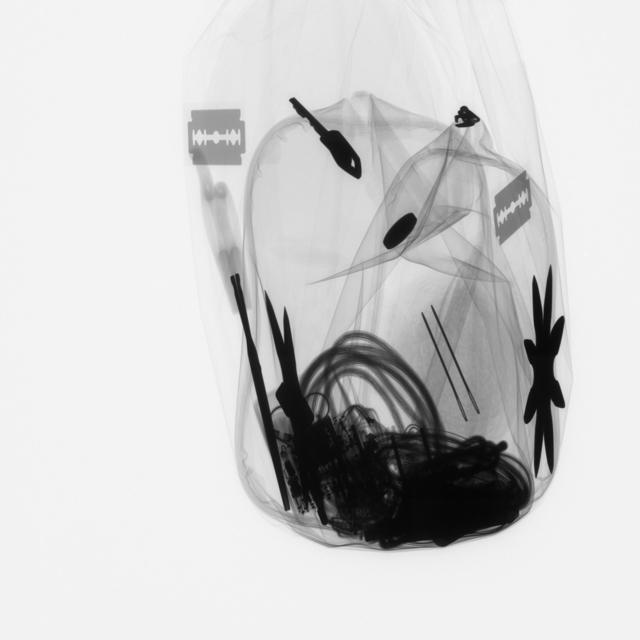razor: (182, 104, 255, 176), (490, 170, 534, 248)
shuriken: (256, 296, 336, 518), (519, 270, 571, 480)
